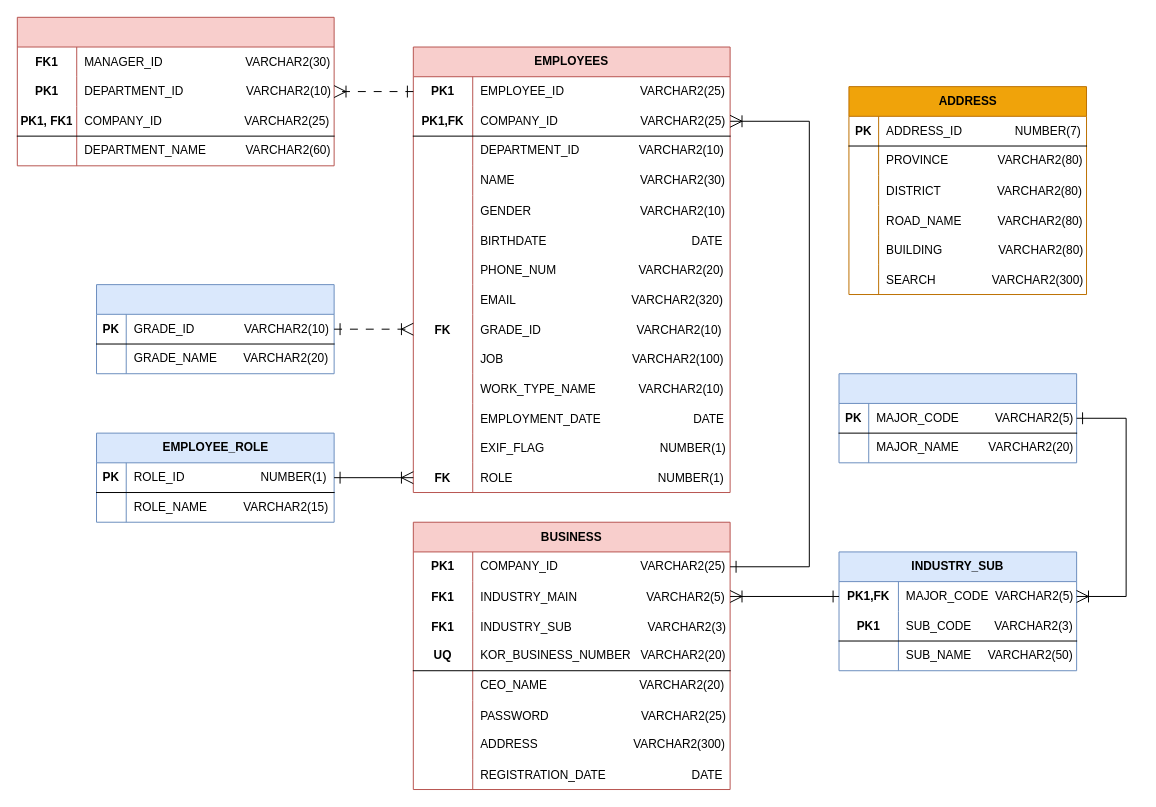
The diagram is 1156 pixels wide and 807 high, and some of its shapes have lost their labels. The box of each missing label's shape, as (x1, y1, x2, y2) in pixels:
DEPARTMENTS: (16, 16, 334, 166)
GRADES: (96, 284, 334, 374)
INDUSTRY_MAJOR: (838, 373, 1077, 463)
